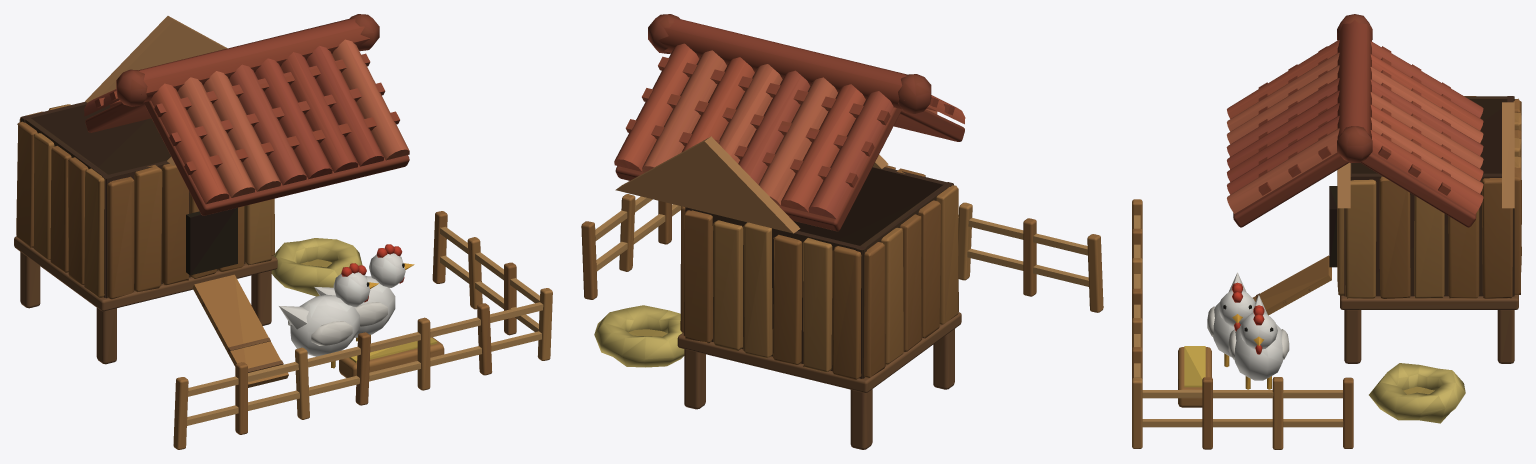
The model's file is coop.glb.
3 views of the same model, side by side, from view 1: azimuth 30°, elevation 25°; view 2: azimuth 150°, elevation 25°; view 3: azimuth 270°, elevation 25° (orthographic). The views are drawn at different scales.
Parts seen in each view (by area): view 1: coop-kit; view 2: coop-kit; view 3: coop-kit.
Part boxes in pixels (x1,y1,x2,y2): coop-kit: (14, 14, 552, 449); coop-kit: (581, 14, 1103, 449); coop-kit: (1132, 14, 1521, 449).
Size of the model in its own units: 2.04 by 1.49 by 1.83.
